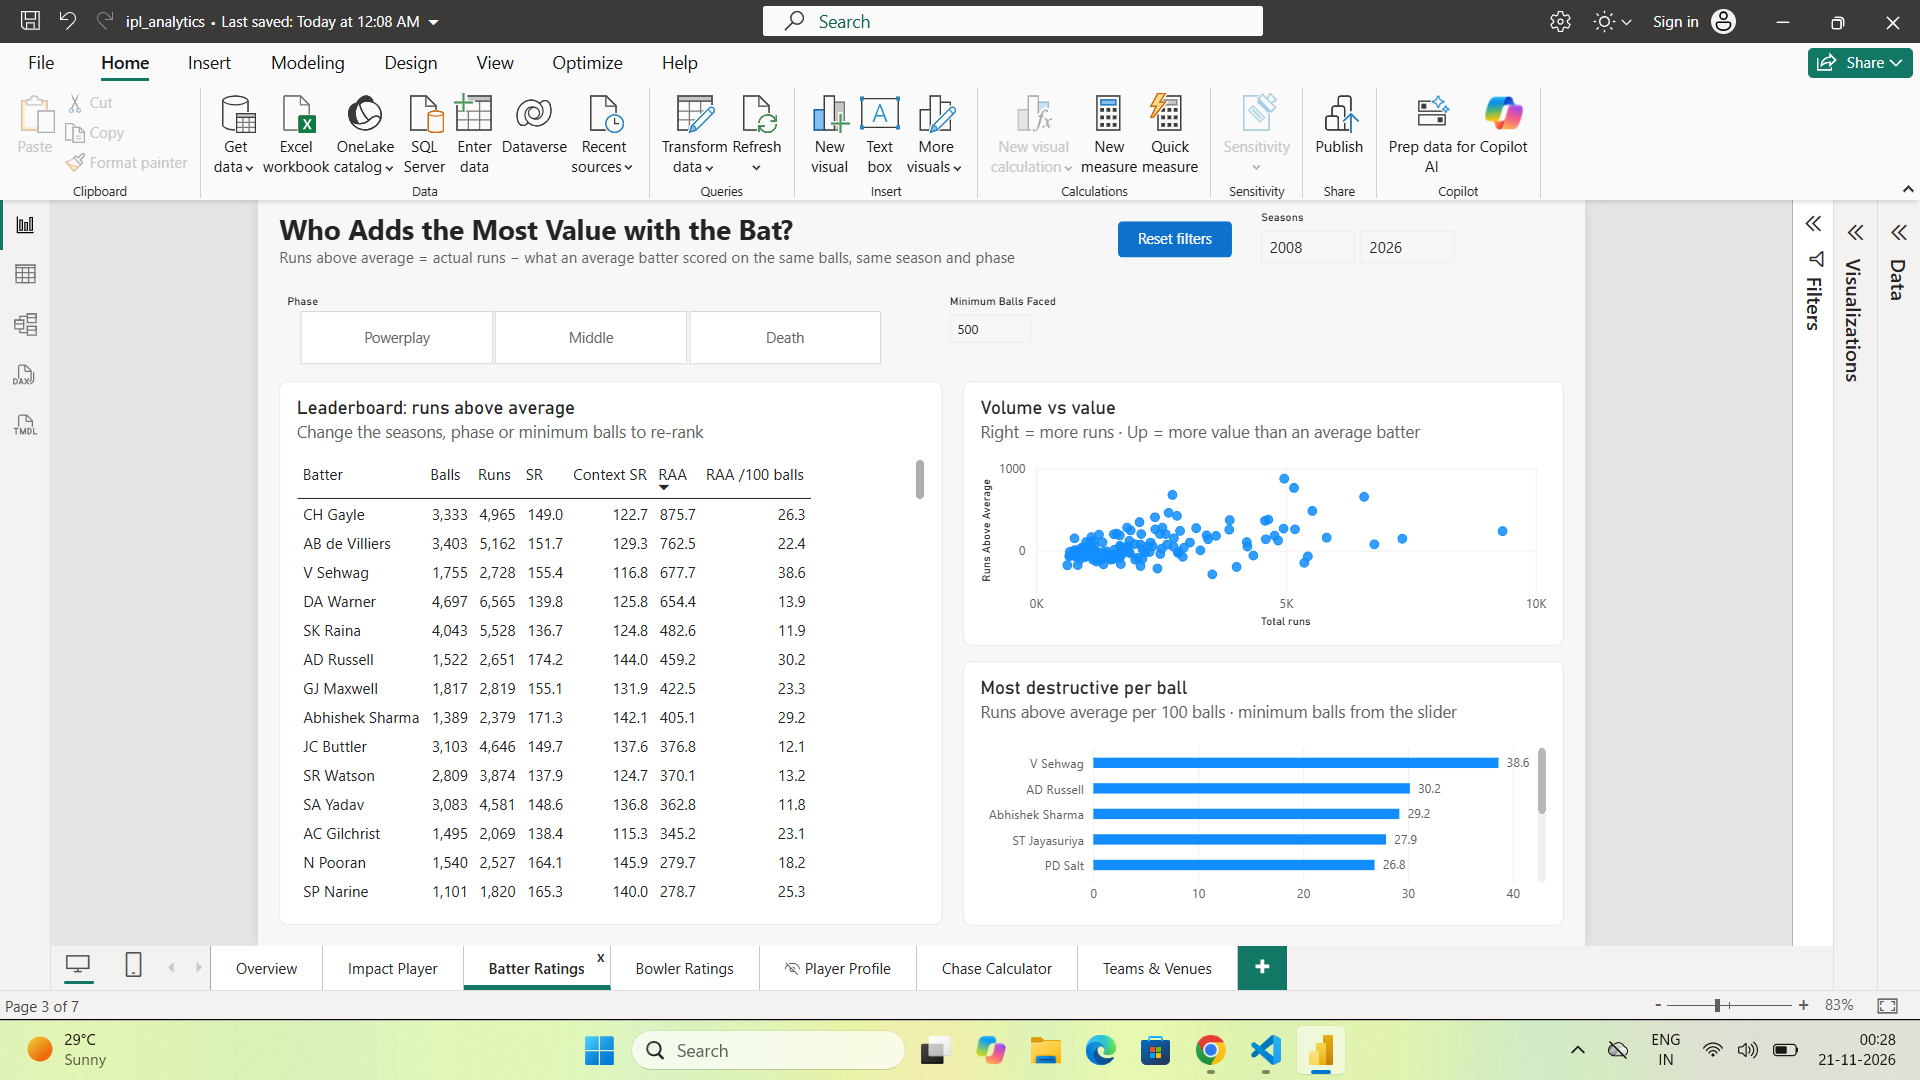

The page's visual inventory and layout, read from the dashboard file:
{"tool":"powerbi","page":{"name":"Batter Ratings","canvas":[1280,720],"ordinal":2},"visuals":[{"type":"textbox","box":[20,10,900,70],"z":0},{"type":"slicer","fields":{"Values":["dim_season.season"]},"box":[960,10,300,70],"z":1000},{"type":"slicer","fields":{"Values":["dim_phase.phase"]},"box":[20,90,600,70],"z":2000},{"type":"slicer","fields":{"Values":["Min Balls 2.Min Balls"]},"box":[660,90,600,70],"z":3000},{"type":"tableEx","title":"Leaderboard: runs above average","fields":{"Values":["dim_player.player","_Measures.Bat Balls","_Measures.Bat Runs","_Measures.Strike Rate","_Measures.Average SR in Context","_Measures.Runs Above Average","_Measures.RAA per 100 Balls"]},"box":[20,175,640,525],"z":4000},{"type":"scatterChart","title":"Volume vs value","fields":{"Category":["dim_player.player"],"X":["_Measures.Bat Runs"],"Y":["_Measures.Runs Above Average"]},"box":[680,175,580,255],"z":5000},{"type":"clusteredBarChart","title":"Most destructive per ball","fields":{"Category":["dim_player.player"],"Y":["_Measures.RAA per 100 (Qualified)"]},"box":[680,445,580,255],"z":6000},{"type":"actionButton","box":[830,20,110,35],"z":6001}]}

Visuals, with their boxes on the page's 1280x720 design canvas (x1, y1, x2, y2). These are canvas units, not pixel positions in the 1920x1080 screenshot, which may show the page scaled, cropped or inside an application window:
textbox: [20, 10, 920, 80]
slicer - dim_season.season: [960, 10, 1260, 80]
slicer - dim_phase.phase: [20, 90, 620, 160]
slicer - Min Balls 2.Min Balls: [660, 90, 1260, 160]
"Leaderboard: runs above average" tableEx: [20, 175, 660, 700]
"Volume vs value" scatterChart: [680, 175, 1260, 430]
"Most destructive per ball" clusteredBarChart: [680, 445, 1260, 700]
actionButton: [830, 20, 940, 55]
